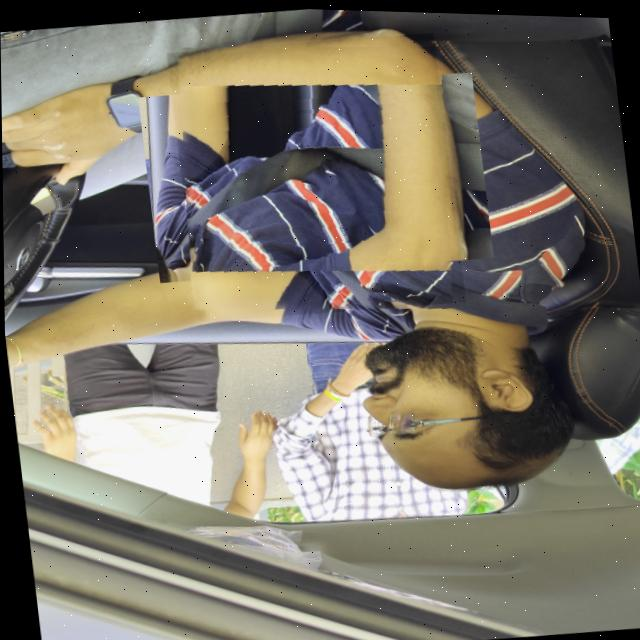seatbelt: (166, 23, 465, 327)
